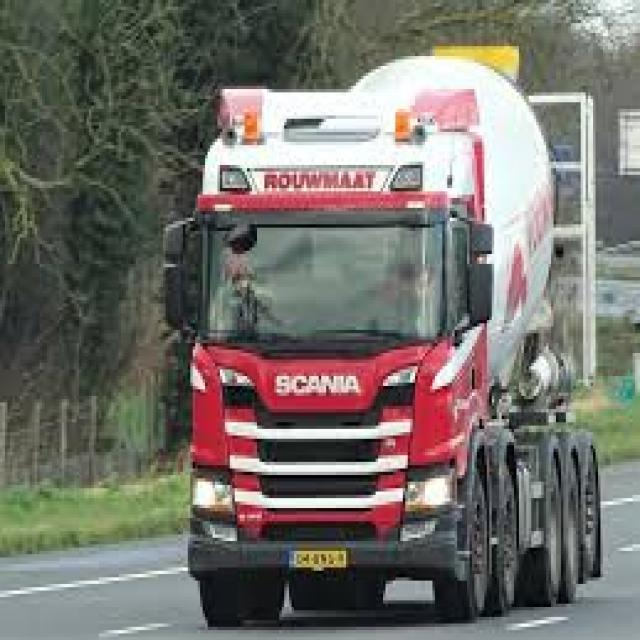Mixer Truck: (160, 43, 605, 627)
